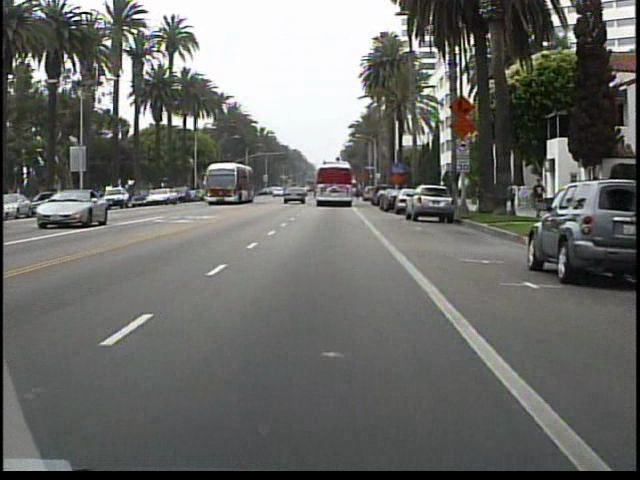person: (528, 173, 550, 224)
